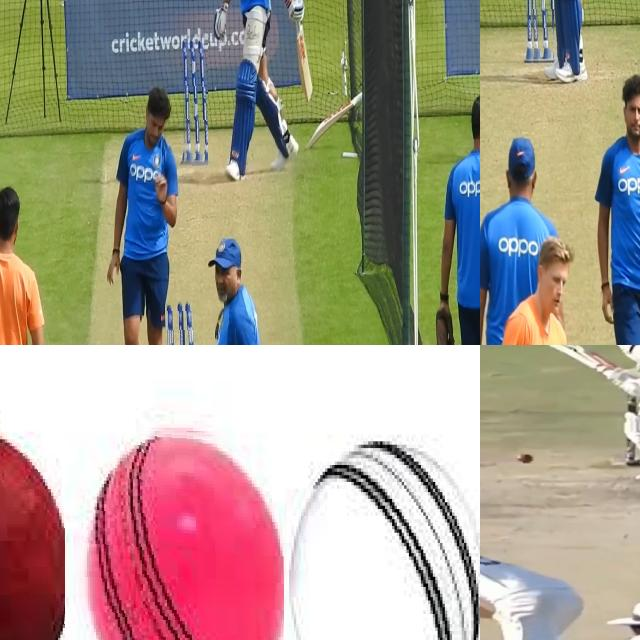Cricket ball: (73, 424, 284, 640), (287, 422, 480, 640), (0, 424, 65, 640), (515, 451, 535, 464)
Stumps: (180, 34, 208, 168), (525, 0, 554, 64), (166, 301, 198, 345)
